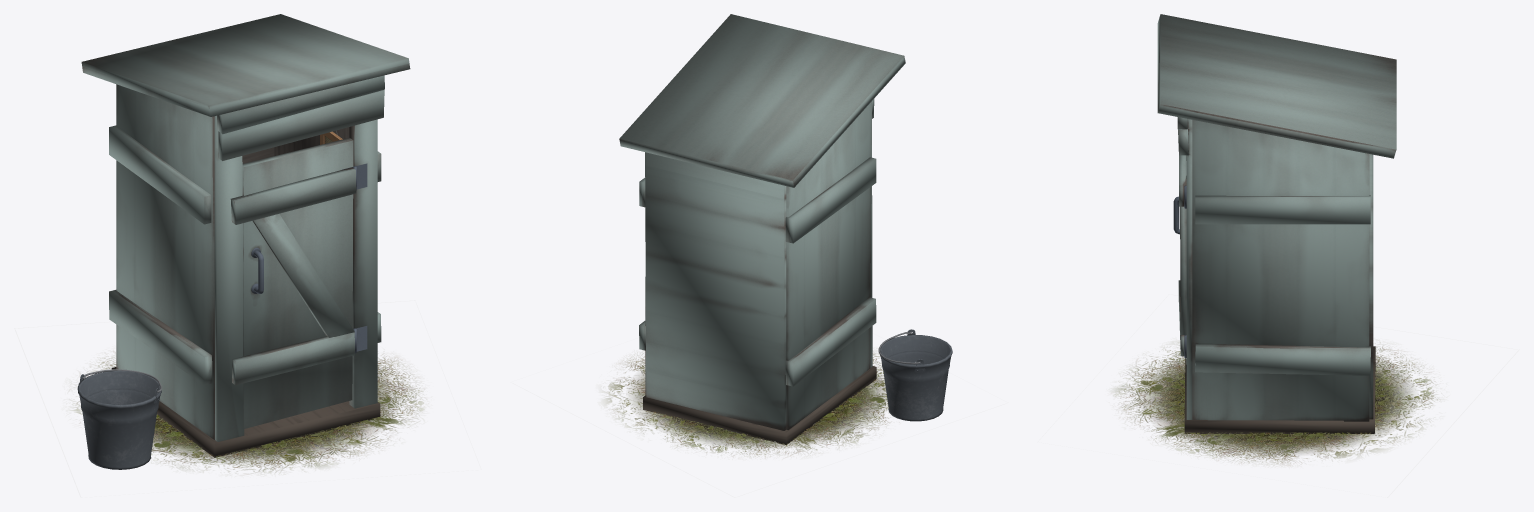
Rendered from lt_letrina_rusa.glb.
3 renders of one model, left to right at view 1: azimuth 30°, elevation 25°; view 2: azimuth 150°, elevation 25°; view 3: azimuth 270°, elevation 25°, orthographic. The views are drawn at different scales.
Parts seen in each view (by area): view 1: Cube.011_1, Cube.014_2, Circle.012_0, Plane.013_4, Plane.012_3; view 2: Cube.011_1, Circle.012_0, Plane.013_4, Plane.012_3; view 3: Cube.011_1, Plane.013_4, Plane.012_3, Cube.014_2.
Boxes of the visible parts, x1=… form: Cube.011_1: x1=81, y1=14, x2=410, y2=457; Cube.014_2: x1=230, y1=138, x2=356, y2=428; Circle.012_0: x1=77, y1=369, x2=161, y2=469; Plane.013_4: x1=72, y1=351, x2=423, y2=472; Plane.012_3: x1=153, y1=374, x2=393, y2=462; Cube.011_1: x1=619, y1=14, x2=905, y2=444; Circle.012_0: x1=878, y1=329, x2=952, y2=421; Plane.013_4: x1=605, y1=353, x2=889, y2=456; Plane.012_3: x1=632, y1=373, x2=885, y2=447; Cube.011_1: x1=1157, y1=14, x2=1396, y2=433; Plane.013_4: x1=1114, y1=342, x2=1437, y2=464; Plane.012_3: x1=1143, y1=358, x2=1412, y2=453; Cube.014_2: x1=1173, y1=155, x2=1186, y2=364.
Bounding box in the file's own units: 5.79 × 4.47 × 5.79.
6 materials, 6 textured.
